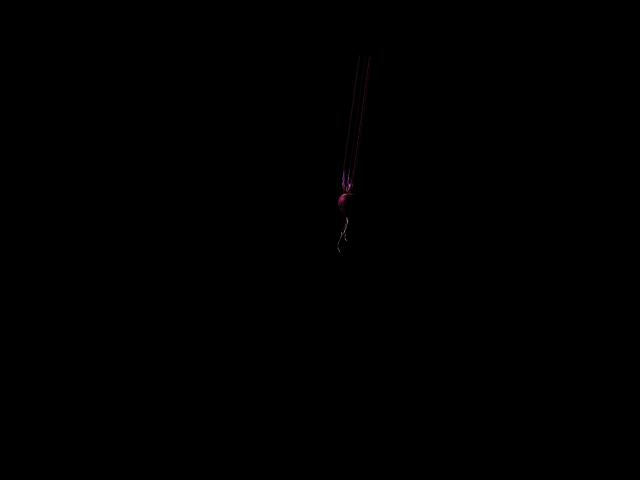beet: (329, 166, 364, 254)
